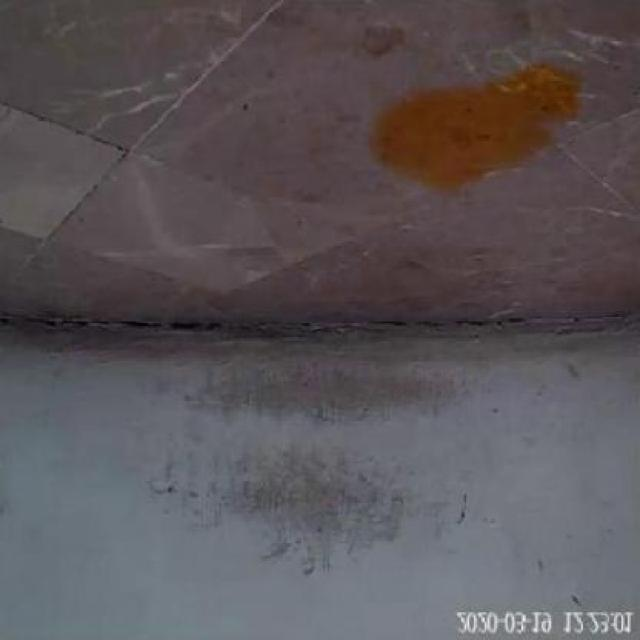spillage: (365, 60, 583, 193)
